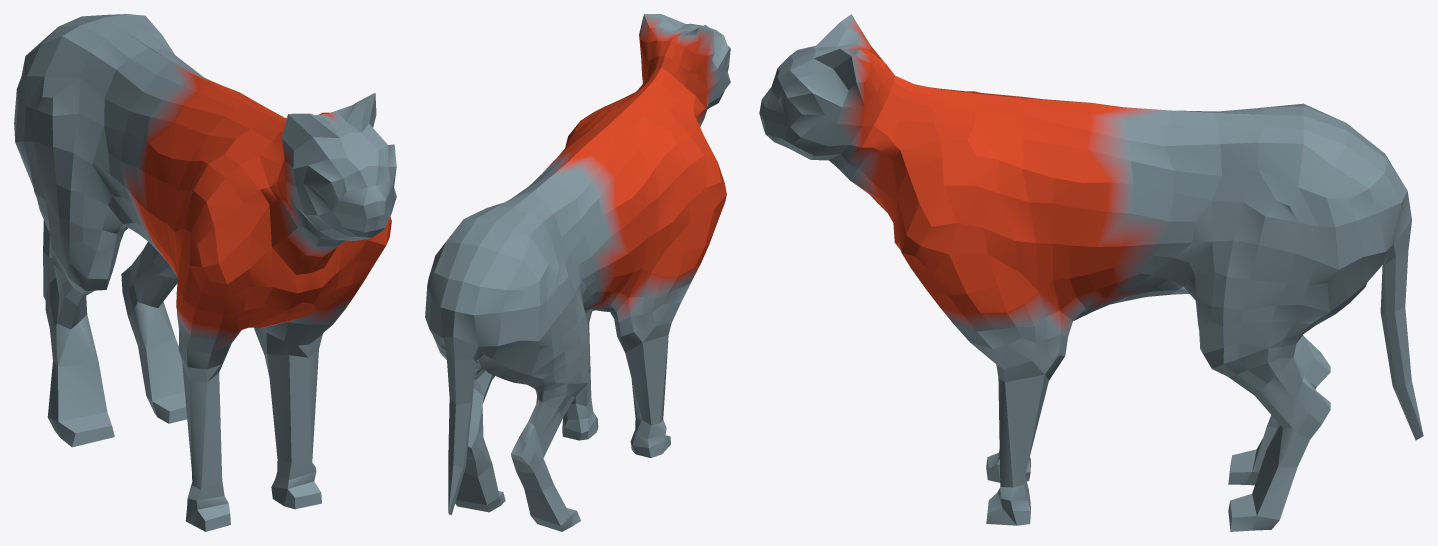
Rendered from procedural-support-mask.glb.
3 renders of one model, left to right at view 1: azimuth 30°, elevation 25°; view 2: azimuth 150°, elevation 25°; view 3: azimuth 270°, elevation 25°, orthographic. The views are drawn at different scales.
Parts seen in each view (by area): view 1: PROCEDURAL SUPPORT MASK — RED IS SELECTED; view 2: PROCEDURAL SUPPORT MASK — RED IS SELECTED; view 3: PROCEDURAL SUPPORT MASK — RED IS SELECTED.
Part boxes in pixels (x1,y1,x2,y2): PROCEDURAL SUPPORT MASK — RED IS SELECTED: (14,14,396,531); PROCEDURAL SUPPORT MASK — RED IS SELECTED: (425,14,730,531); PROCEDURAL SUPPORT MASK — RED IS SELECTED: (759,14,1423,531).
Size of the model in its own units: 20.32 by 47.97 by 62.11.
